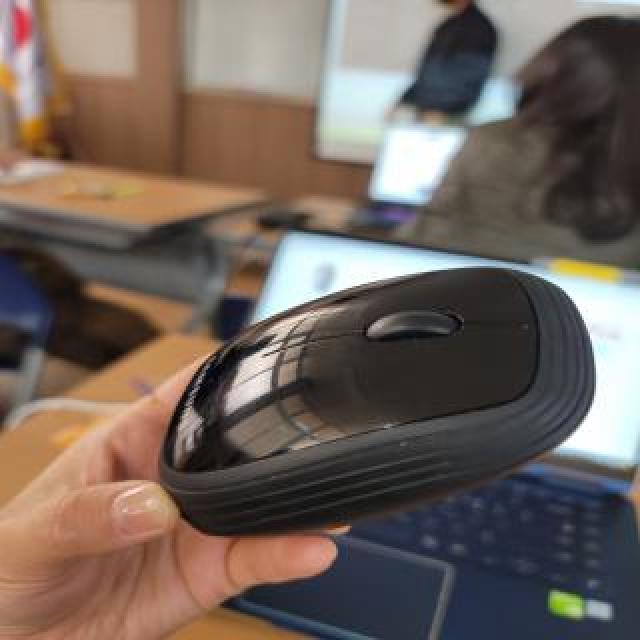mouse: (182, 257, 592, 468)
